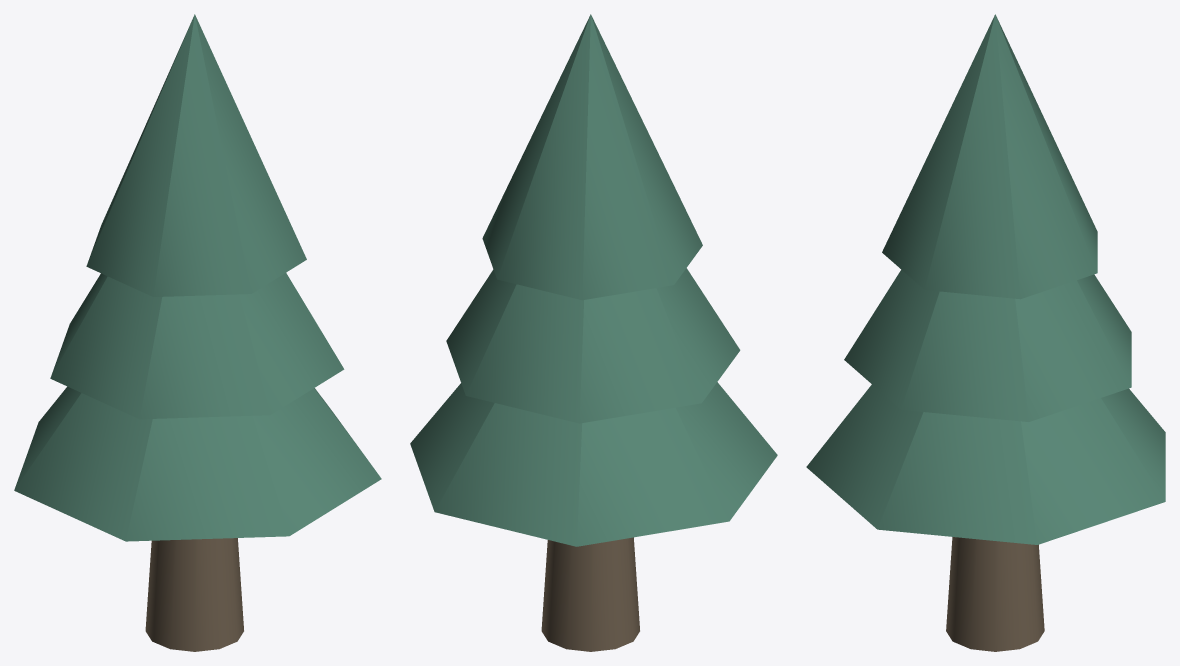
File: sunfall-rift-moba-canopy-pine-29ad4bc7__21999.glb
3 views of the same model, side by side, from view 1: azimuth 30°, elevation 25°; view 2: azimuth 150°, elevation 25°; view 3: azimuth 270°, elevation 25° (orthographic).
Visible parts, largest first — view 1: canopy-pine; view 2: canopy-pine; view 3: canopy-pine.
Boxes of the visible parts, bbox=[...] form: canopy-pine: bbox=[14, 14, 381, 651]; canopy-pine: bbox=[410, 14, 777, 651]; canopy-pine: bbox=[806, 14, 1165, 651].
Bounding box in the file's own units: 2.24 × 4.14 × 2.19.
